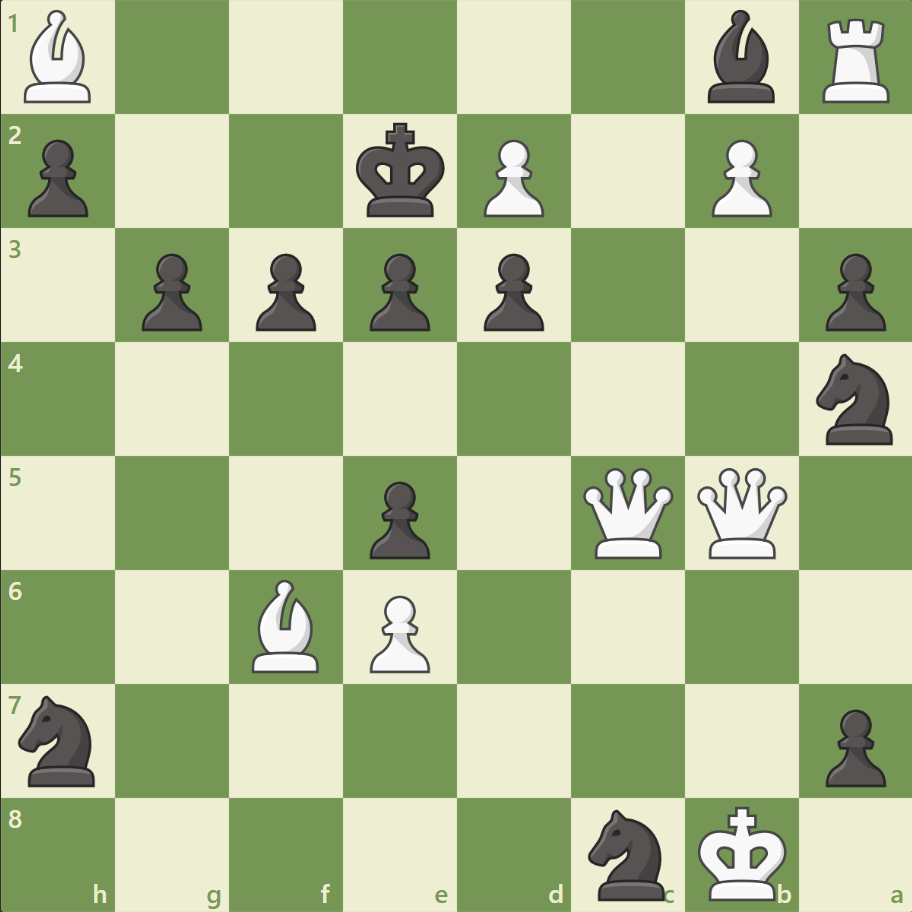B: (17, 6, 101, 109), (244, 574, 328, 676)
K: (692, 798, 792, 906)
P: (701, 132, 776, 223), (474, 132, 549, 223), (361, 586, 435, 677)
Q: (691, 463, 790, 562), (578, 463, 677, 562)
R: (814, 12, 897, 109)
b: (698, 6, 782, 109)
k: (351, 117, 451, 225)
n: (11, 688, 108, 791), (579, 802, 676, 904), (806, 348, 903, 450)
p: (474, 246, 549, 337), (247, 246, 322, 337), (133, 246, 208, 337), (20, 132, 95, 223), (815, 700, 889, 791), (361, 473, 435, 564), (815, 246, 889, 337), (361, 246, 435, 337)
